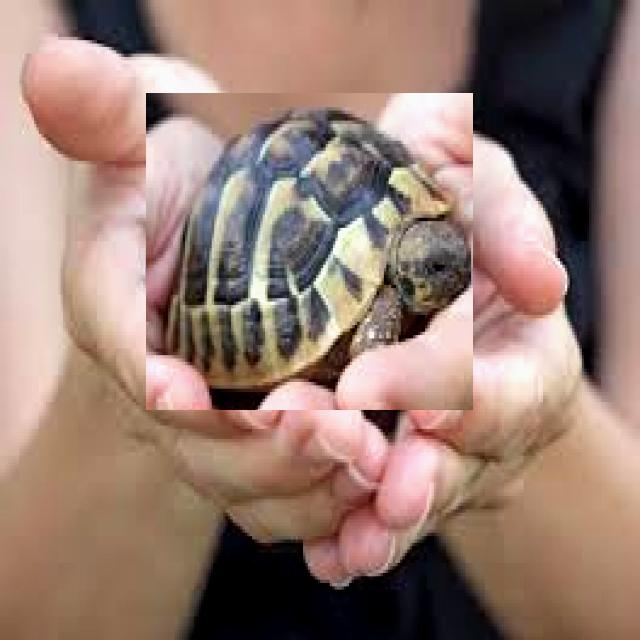Sea turtle: (146, 93, 473, 410)
